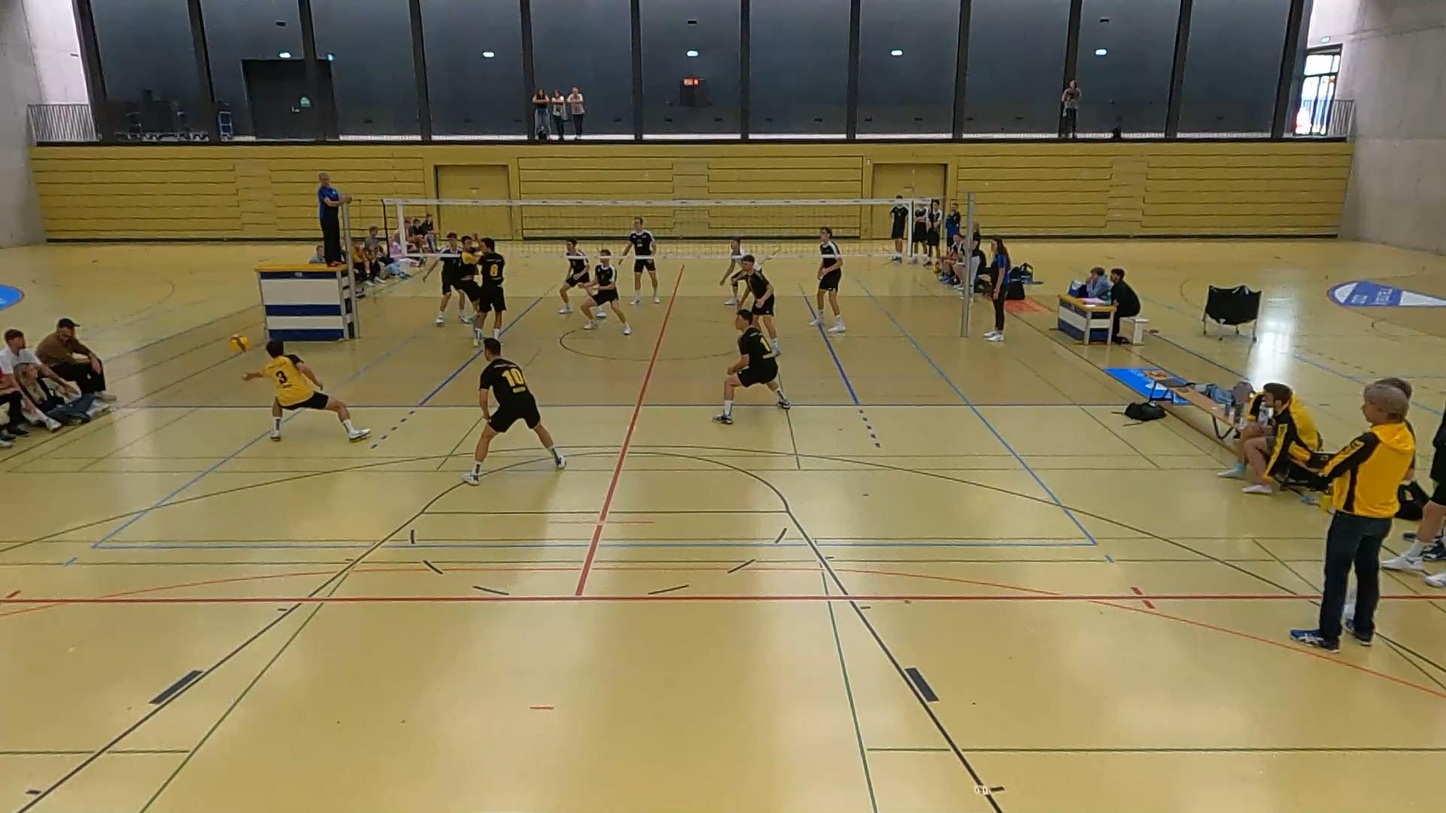Dig: (233, 327, 376, 449)
Player: (462, 338, 565, 485), (713, 309, 790, 424), (582, 248, 630, 334), (740, 254, 780, 353), (810, 227, 846, 332), (423, 232, 462, 326), (623, 217, 660, 305), (474, 238, 505, 339), (558, 239, 589, 314), (719, 237, 746, 306)
ball: (231, 330, 251, 354)
